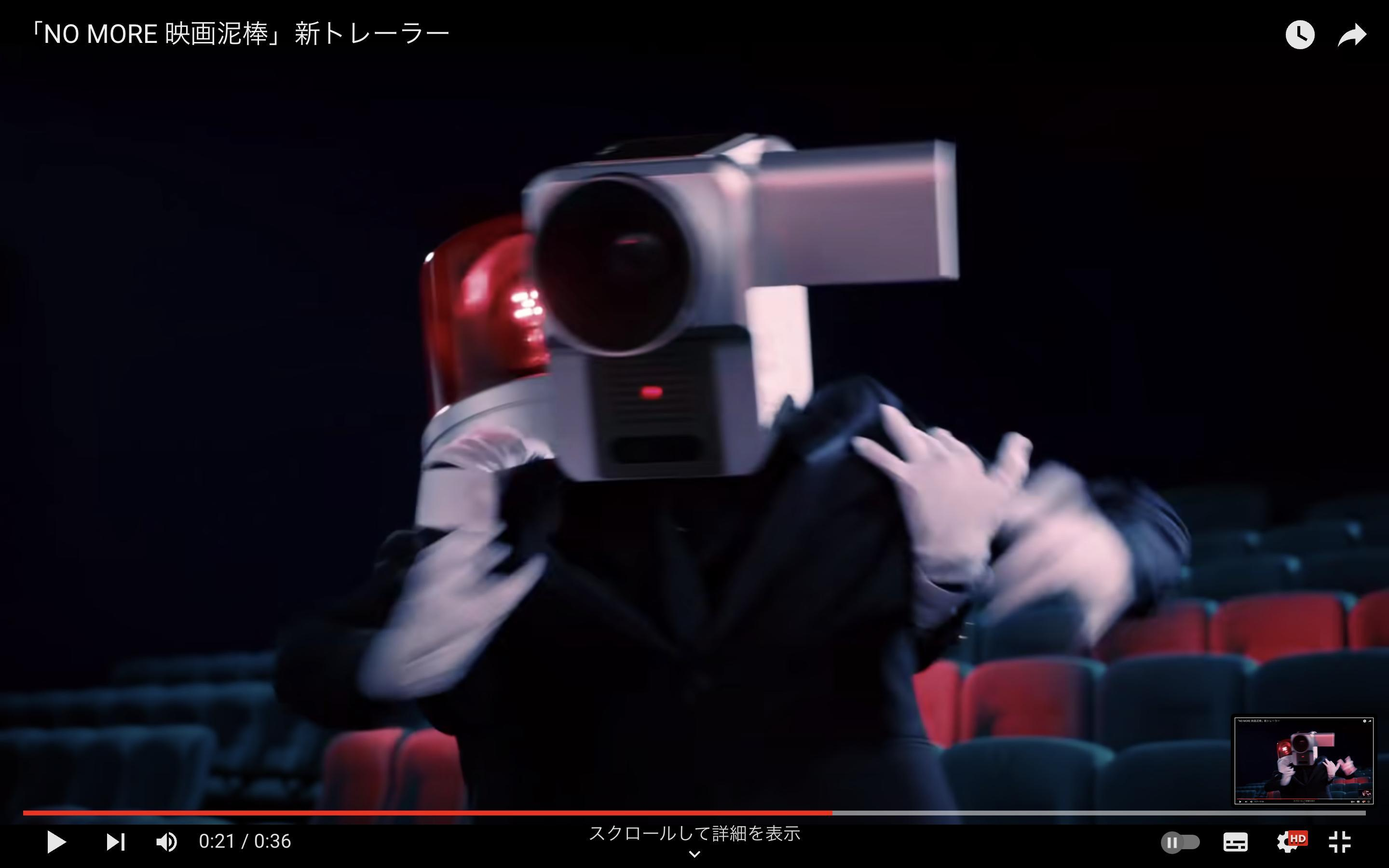no more kid: (516, 124, 971, 493)
